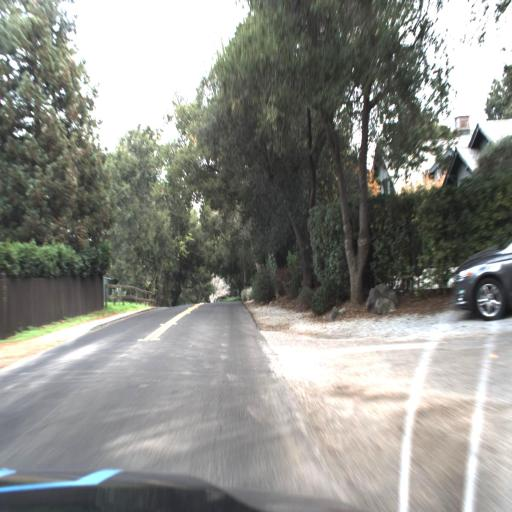car: (453, 234, 512, 322)
